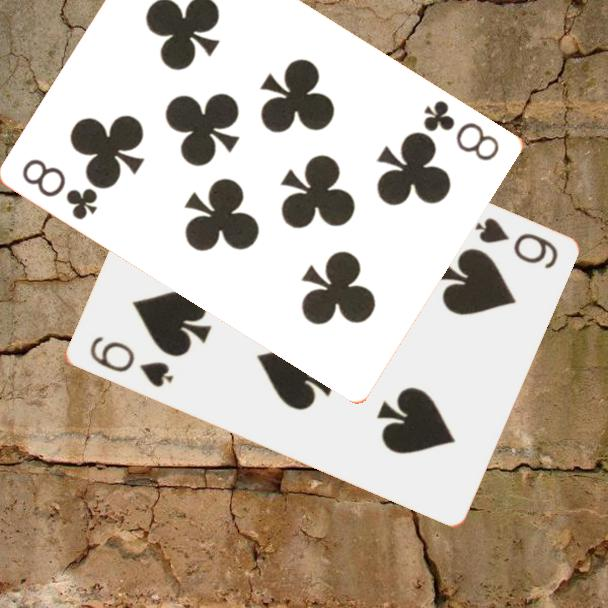c08: (420, 96, 503, 164), (19, 155, 102, 223)
s06: (85, 333, 176, 391), (470, 214, 561, 272)
